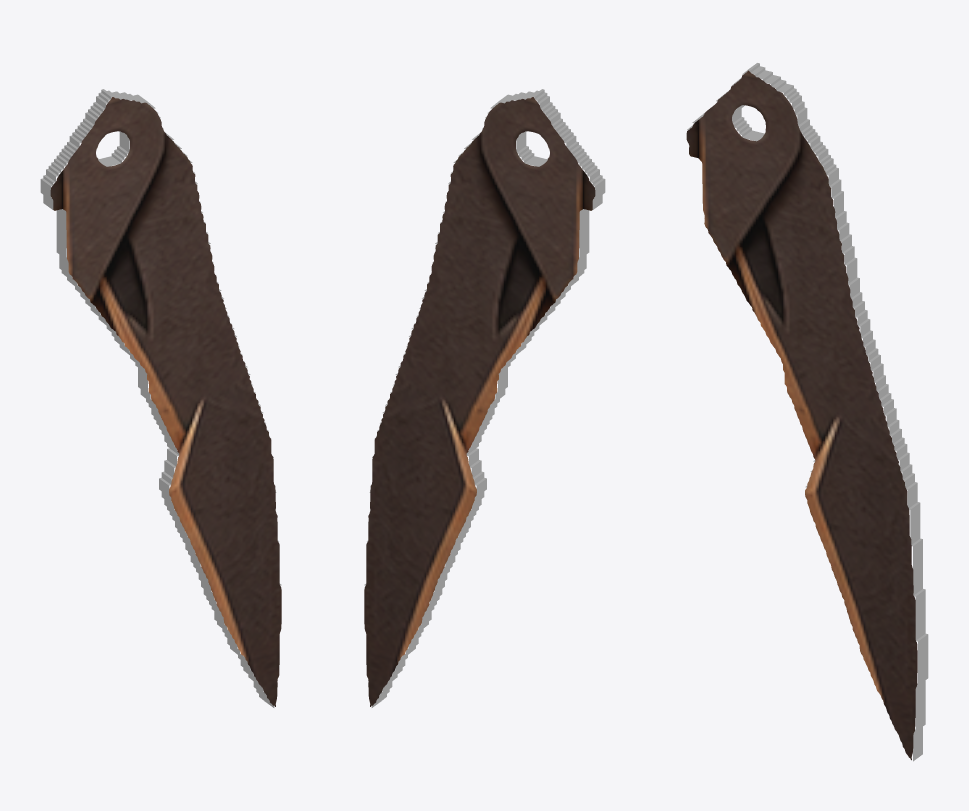
Rendered from Variant06Lower.glb.
The picture shows the model from 3 angles, left to right: view 1: azimuth 30°, elevation 25°; view 2: azimuth 150°, elevation 25°; view 3: azimuth 330°, elevation 25°; orthographic projection.
Visible parts, largest first — view 1: PaperVolume; view 2: PaperVolume; view 3: PaperVolume.
Boxes of the visible parts, x1,y1,x2,y2 form: PaperVolume: (40,89,281,707); PaperVolume: (364,89,605,707); PaperVolume: (686,63,928,761).
Size of the model in its own units: 1.3 by 3.09 by 0.08.
Materials: 3 (2 with a texture image).
